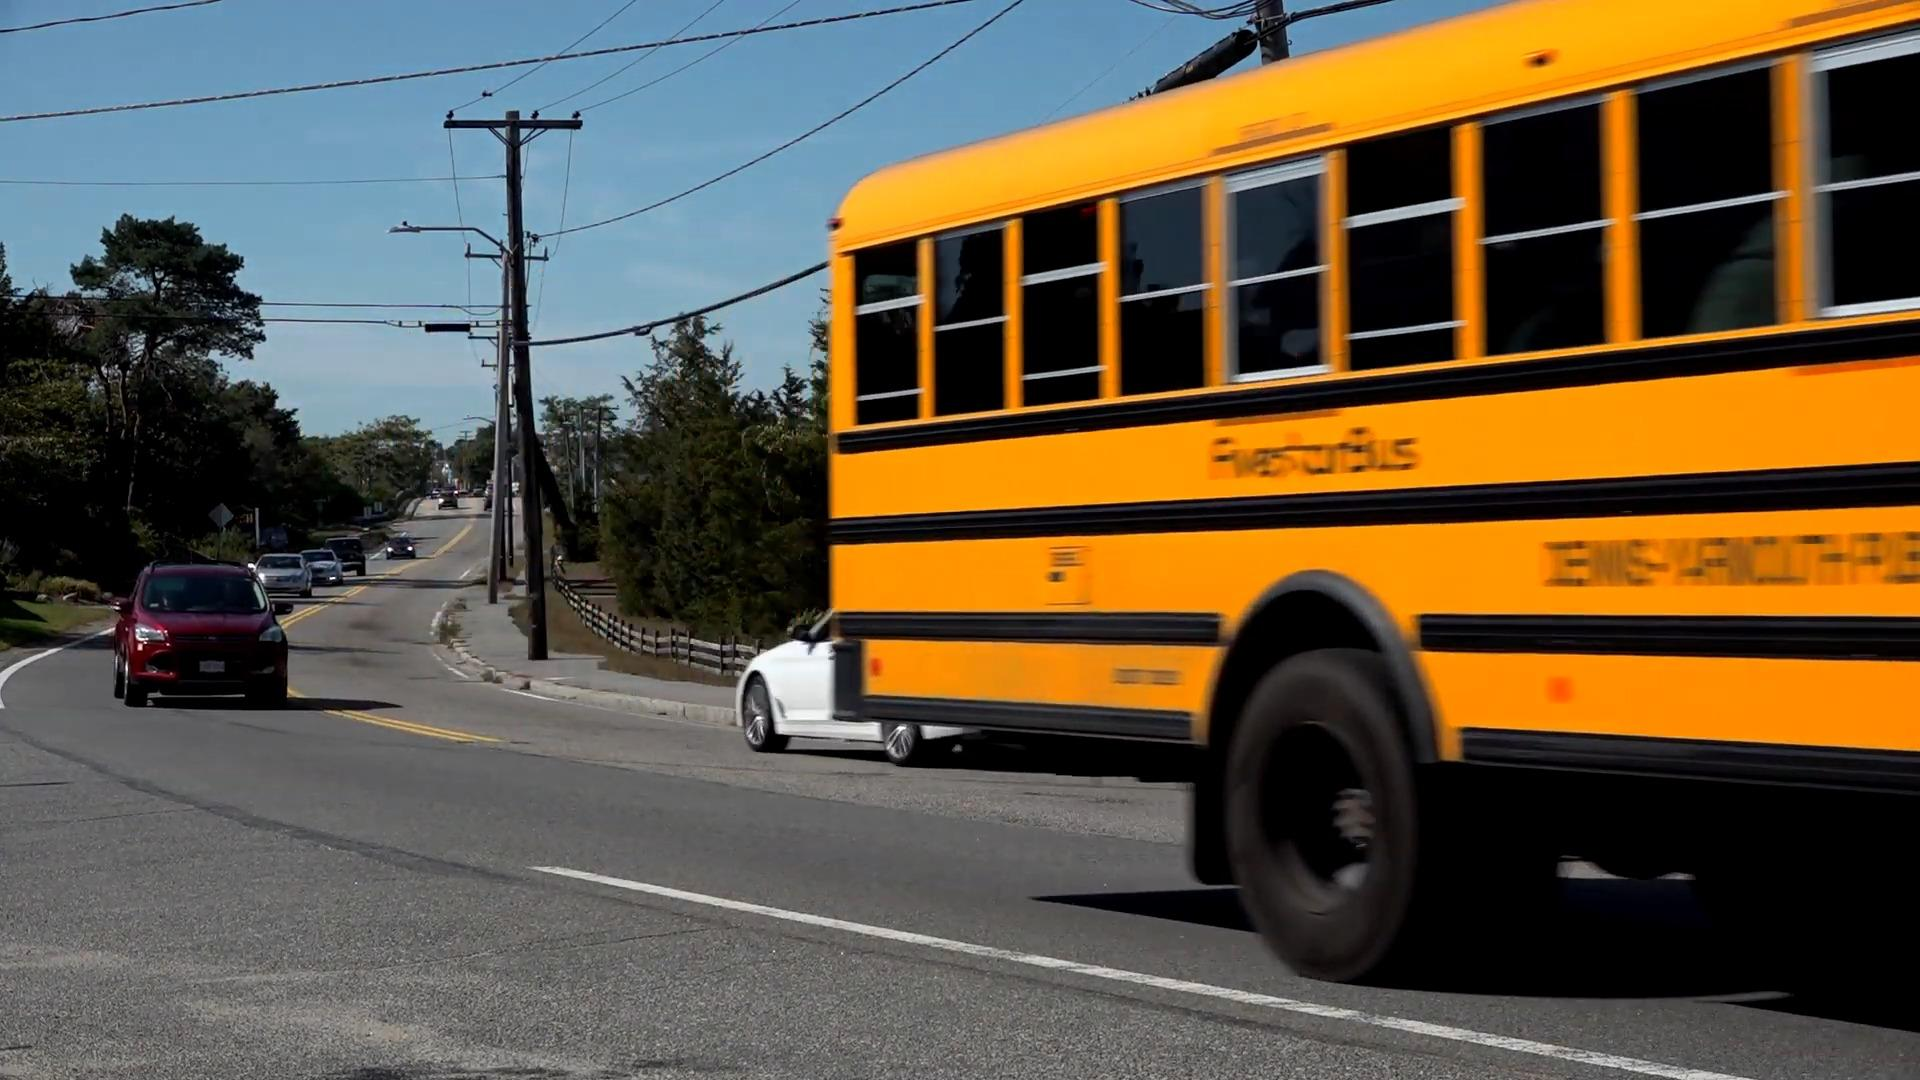suv: (112, 566, 287, 713)
truck: (829, 1, 1919, 1004)
